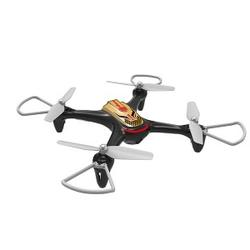drone: (18, 74, 247, 195)
